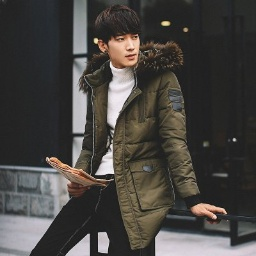face: (94, 4, 141, 68)
